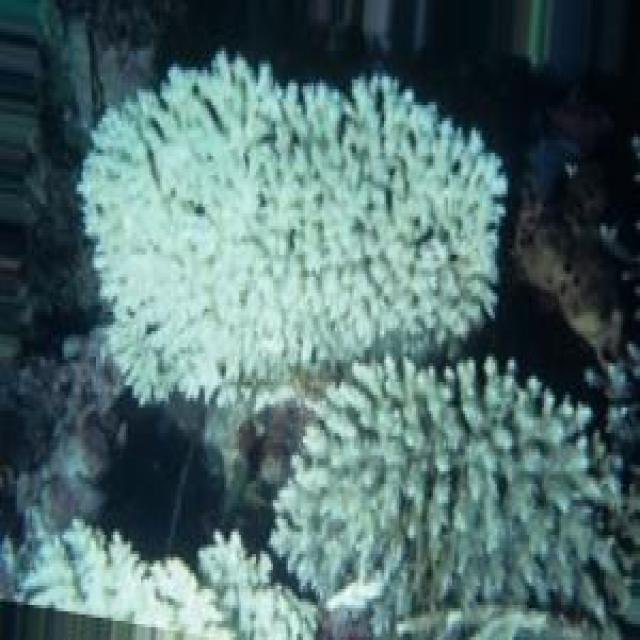bleached coral: (117, 258, 211, 398), (433, 140, 503, 287), (565, 449, 640, 560), (194, 532, 265, 640), (215, 245, 299, 334), (358, 519, 418, 640), (316, 267, 395, 353), (450, 363, 523, 455), (465, 478, 529, 573), (83, 131, 149, 220), (147, 156, 211, 245), (297, 411, 375, 474), (320, 172, 390, 239), (243, 108, 301, 181), (92, 538, 145, 602), (164, 80, 218, 127)
